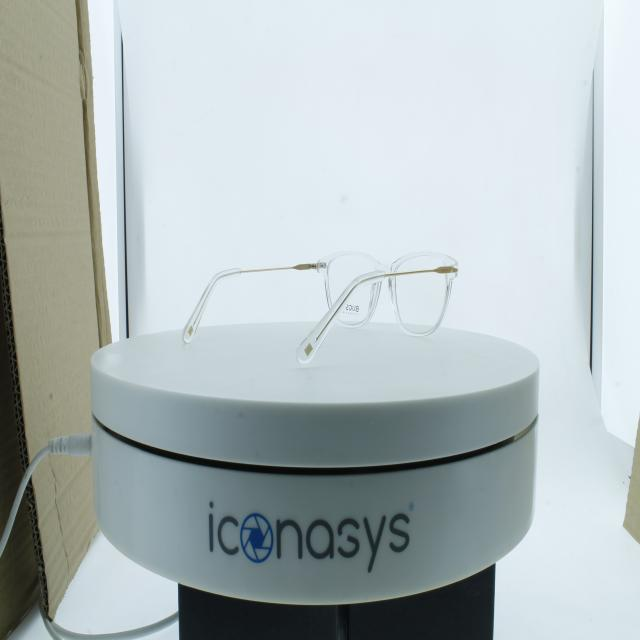Specs: (178, 240, 464, 368)
